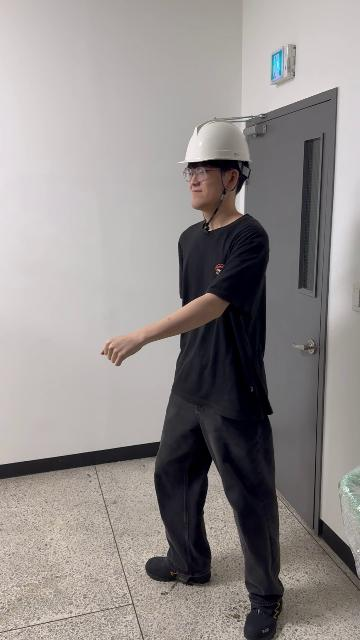shoe_worn: (145, 557, 208, 584), (243, 597, 281, 640)
vest_not_worn: (182, 226, 270, 438)
vest_worn: (176, 119, 252, 165)
